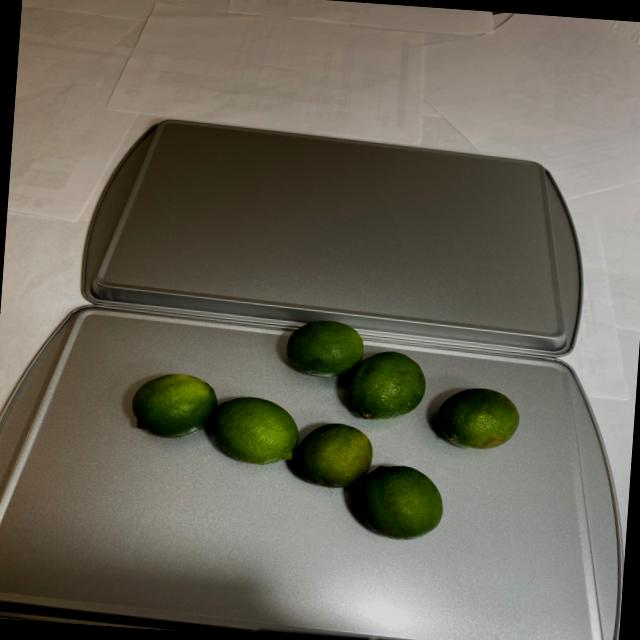lemon: (116, 306, 523, 548)
